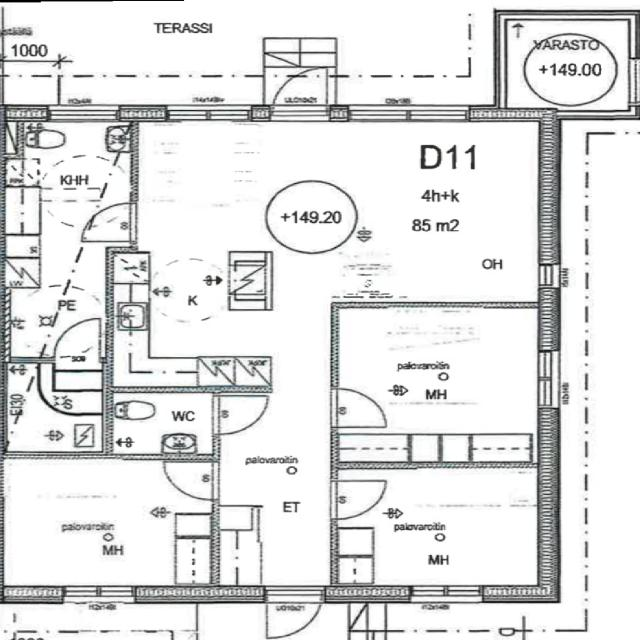door: (272, 63, 326, 121), (266, 585, 322, 640), (163, 461, 221, 499), (212, 396, 270, 434), (331, 480, 386, 519), (82, 202, 138, 240), (331, 388, 386, 426), (54, 322, 98, 362)
